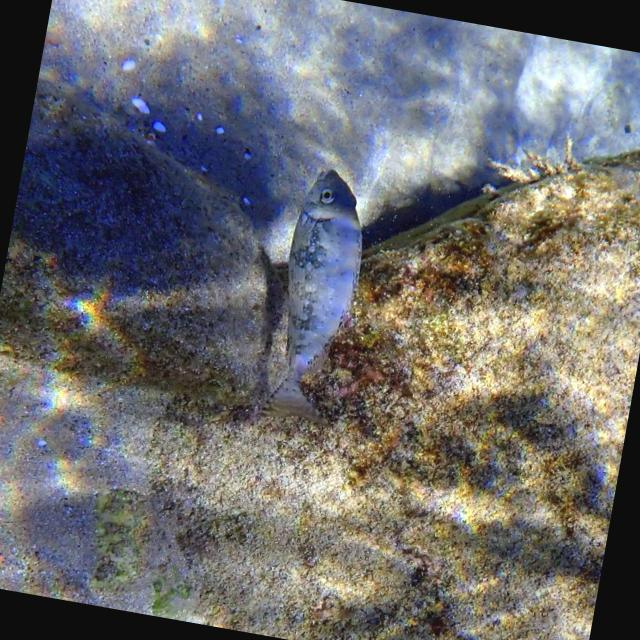Sokar Baligi: (236, 151, 394, 452)
